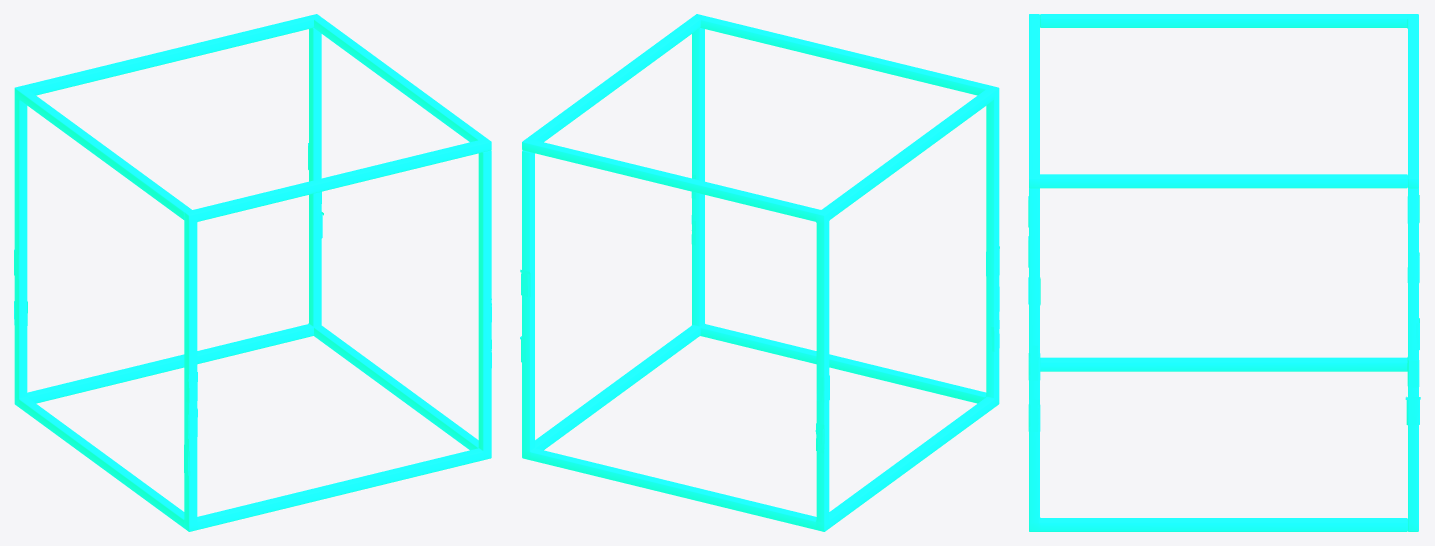
3 views of the same model, side by side, from view 1: azimuth 30°, elevation 25°; view 2: azimuth 150°, elevation 25°; view 3: azimuth 270°, elevation 25° (orthographic). The views are drawn at different scales.
Visible parts, largest first — view 1: Plane.028; view 2: Plane.028; view 3: Plane.028.
Part boxes in pixels (left/top/right/bottom): Plane.028: left=14, top=14, right=491, bottom=531; Plane.028: left=520, top=14, right=999, bottom=531; Plane.028: left=1028, top=14, right=1420, bottom=531.
Size of the model in its own units: 7.8 by 7.76 by 7.8.
